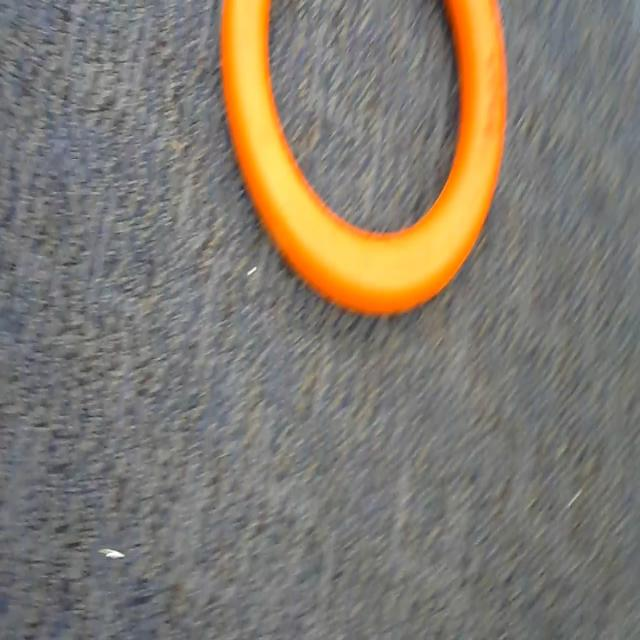note: (218, 0, 513, 339)
